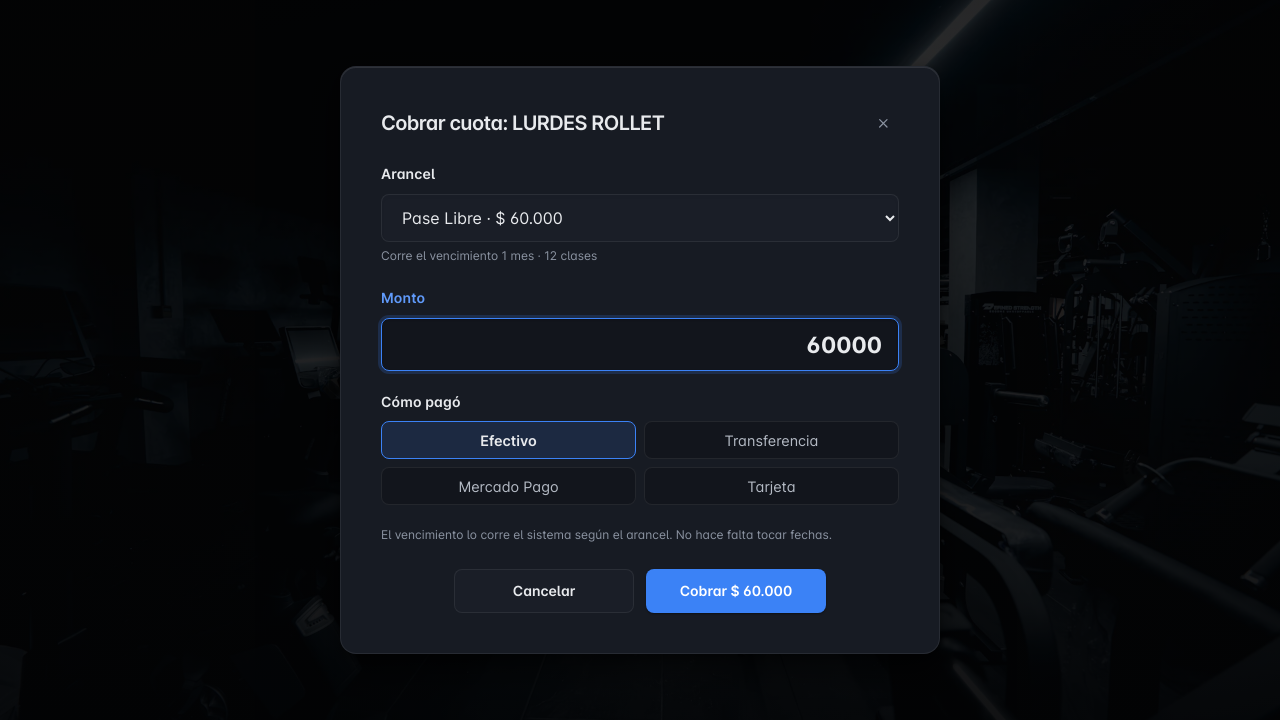
Test case: ⚠️ sin conexión no se promete un vencimiento nuevo › lo dice como lo que es: la plata quedó anotada, el vencimiento no se movió
Click the button "Cobrar $ 60.000": (736, 591) [646,569,826,613]
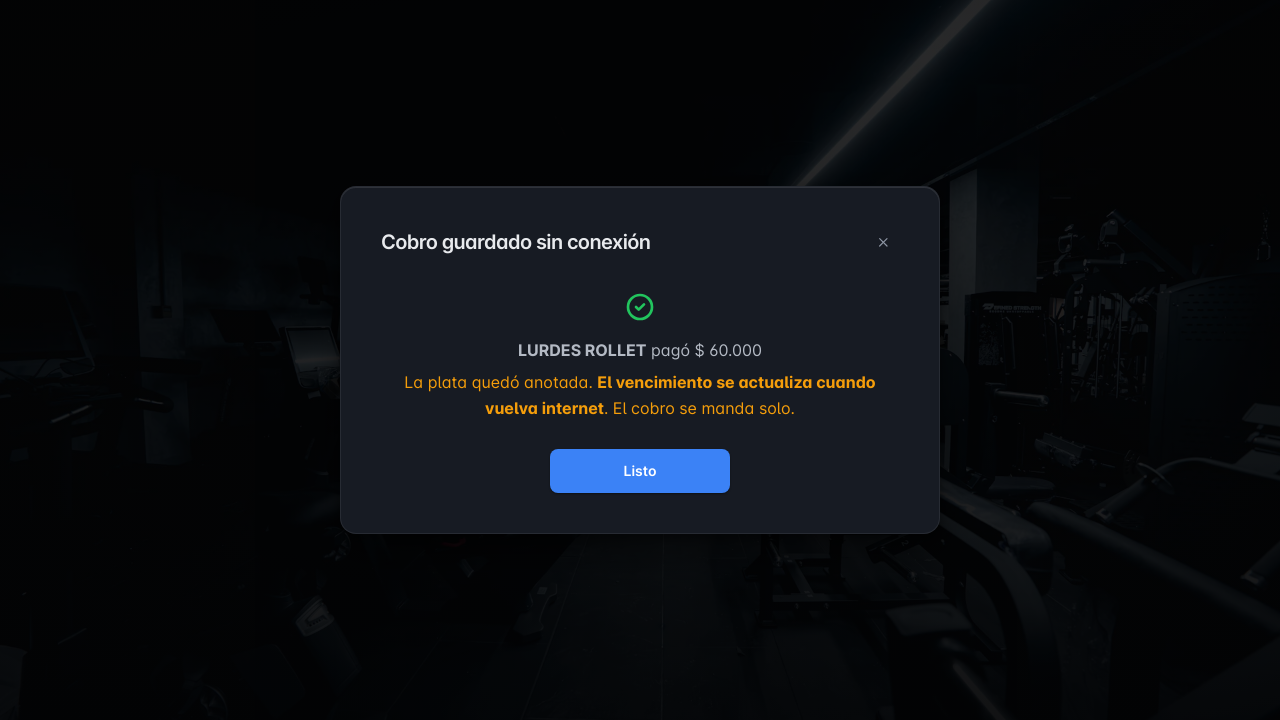
Expected: the text "sin conexión" is shown, [381,230,650,254]
Expected: the text "cuando vuelva internet" is shown, [485,372,876,418]
